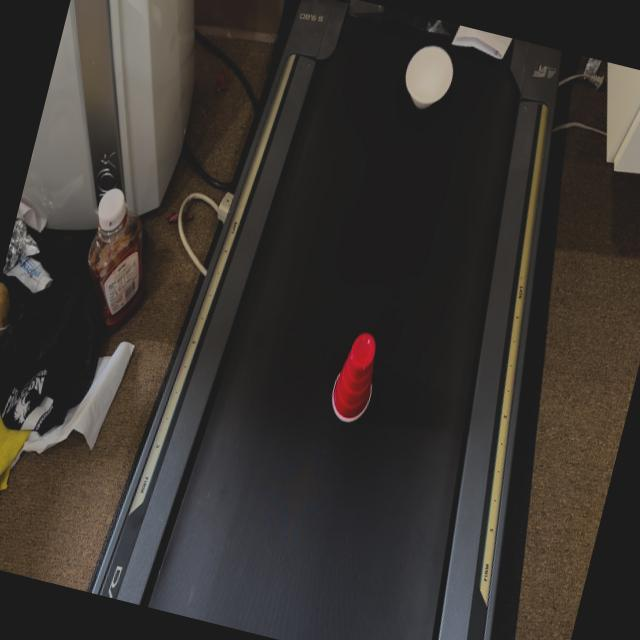Recycle: (324, 328, 386, 428), (395, 40, 460, 118)
